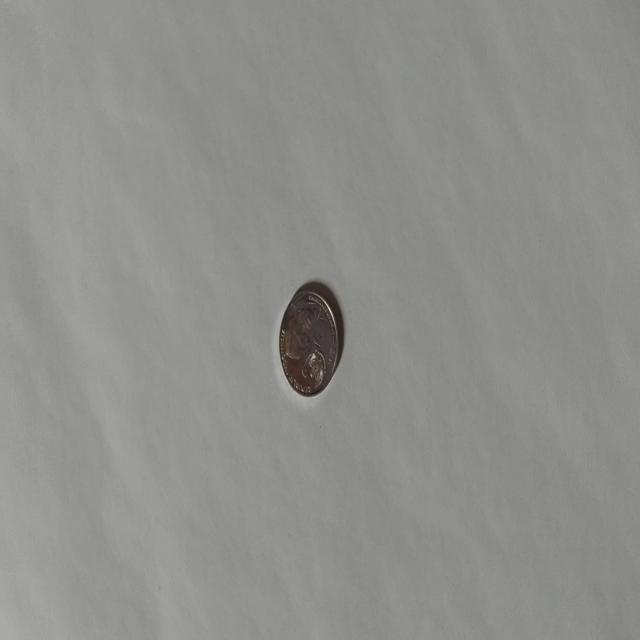dua ratus rupiah: (278, 282, 340, 398)
